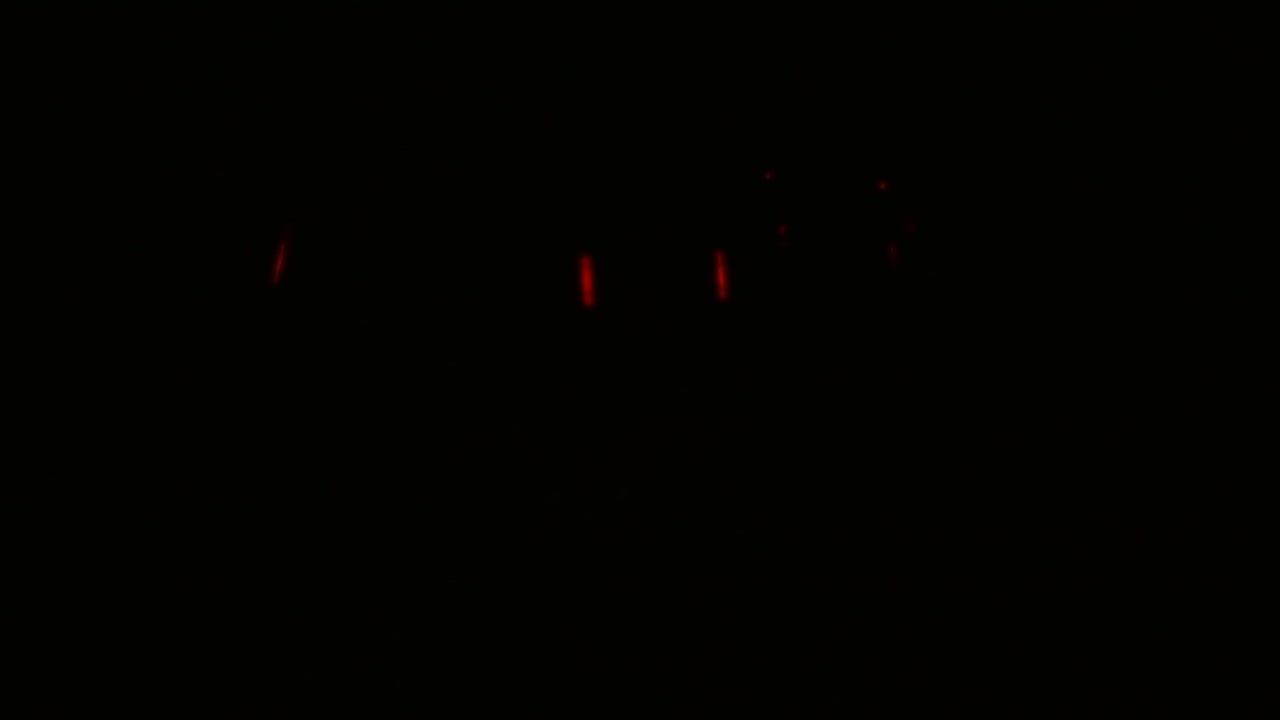pair1: (575, 238, 738, 314)
